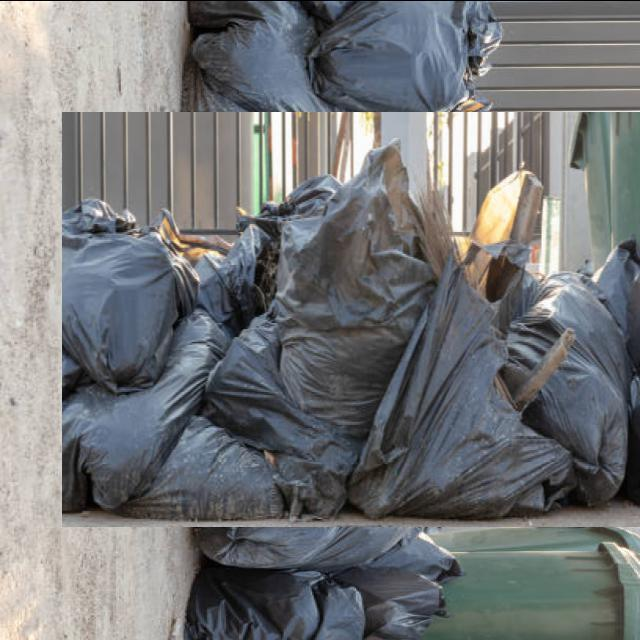Trashbag: (279, 189, 400, 441), (418, 301, 540, 519), (528, 296, 630, 486), (47, 226, 166, 352), (73, 360, 164, 486), (177, 418, 274, 512), (205, 330, 277, 420), (201, 255, 265, 313)
